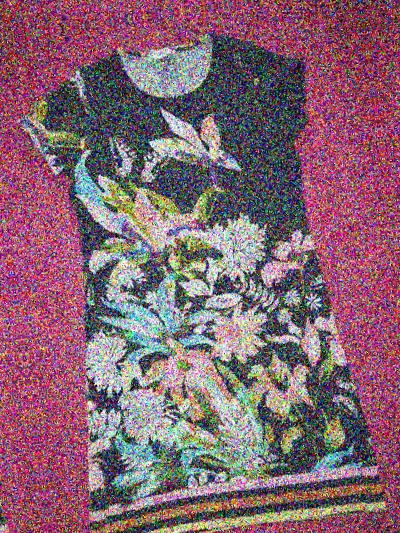Dress: (0, 6, 400, 533), (0, 61, 35, 533), (0, 0, 322, 22), (394, 0, 400, 513)
